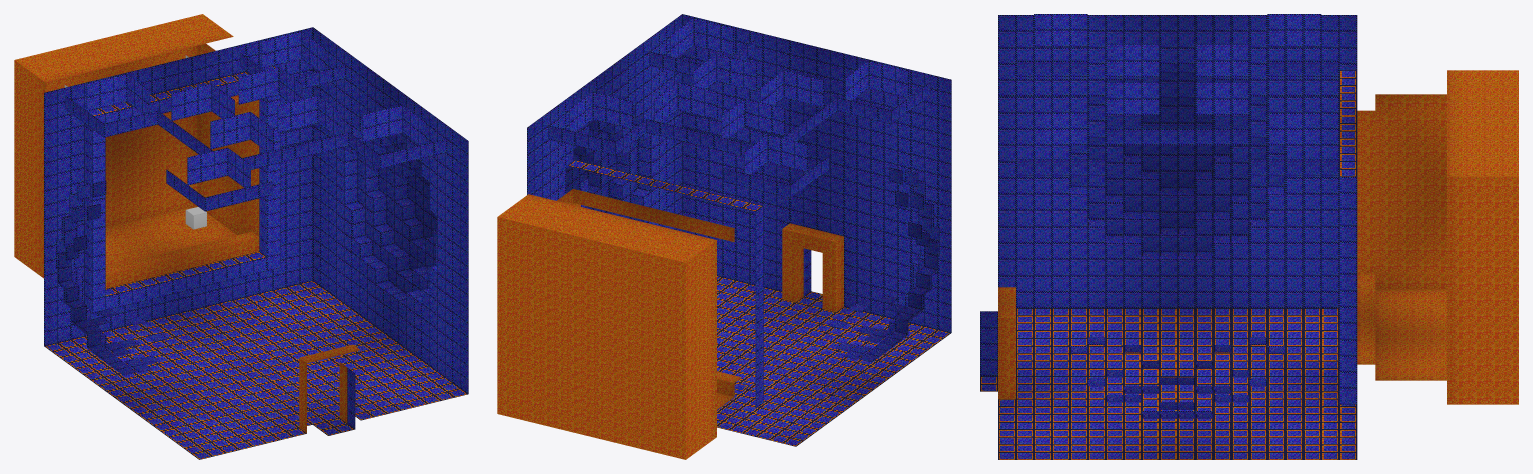
File: concert.glb
3 views of the same model, side by side, from view 1: azimuth 30°, elevation 25°; view 2: azimuth 150°, elevation 25°; view 3: azimuth 270°, elevation 25° (orthographic). The views are drawn at different scales.
Bounding box in the file's own units: 26 × 19 × 30.
1 material, 1 textured.
